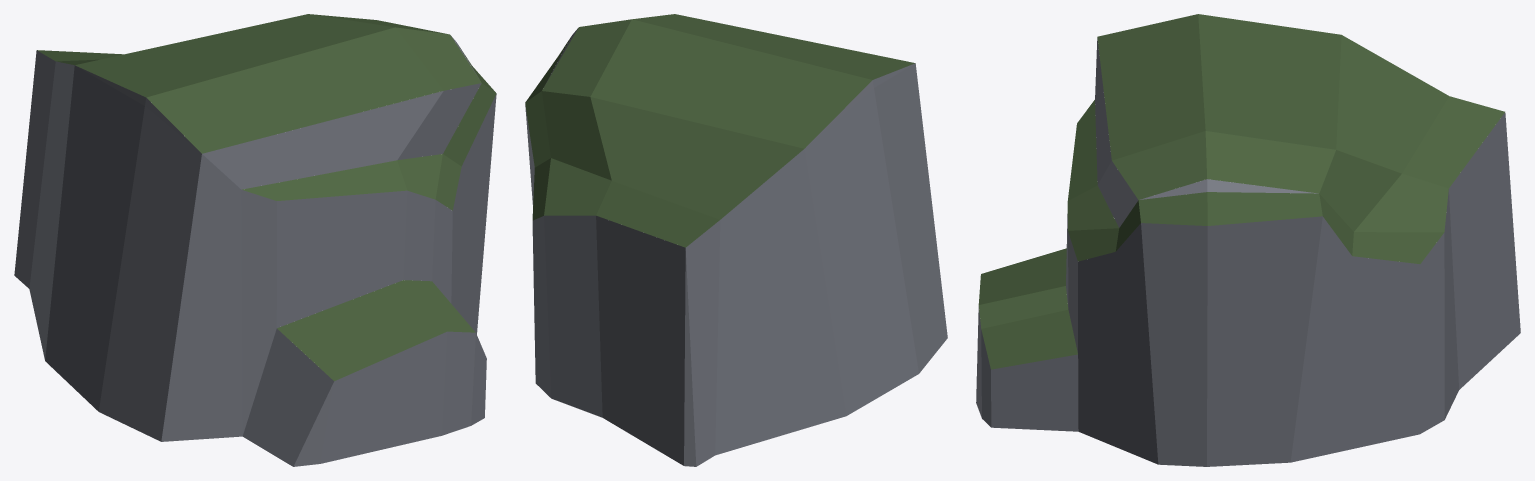
The model's file is Rock_Moss_6-transformed.glb.
The picture shows the model from 3 angles, left to right: view 1: azimuth 30°, elevation 25°; view 2: azimuth 150°, elevation 25°; view 3: azimuth 270°, elevation 25°; orthographic projection. The views are drawn at different scales.
Visible parts, largest first — view 1: Rock_Moss_6; view 2: Rock_Moss_6; view 3: Rock_Moss_6.
Boxes of the visible parts, left/top/right/bottom form: Rock_Moss_6: left=14, top=14, right=496, bottom=466; Rock_Moss_6: left=525, top=14, right=947, bottom=466; Rock_Moss_6: left=976, top=14, right=1520, bottom=466.
Size of the model in its own units: 0.912 by 0.7078 by 1.14.
